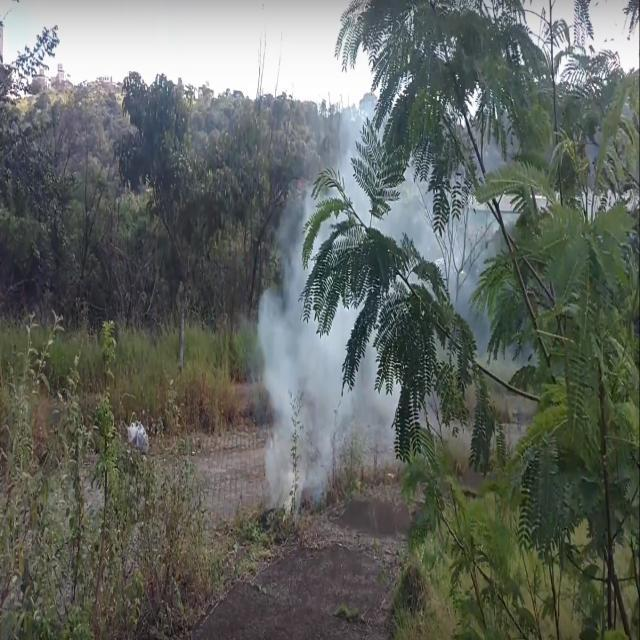Smoke: (267, 301, 332, 478)
